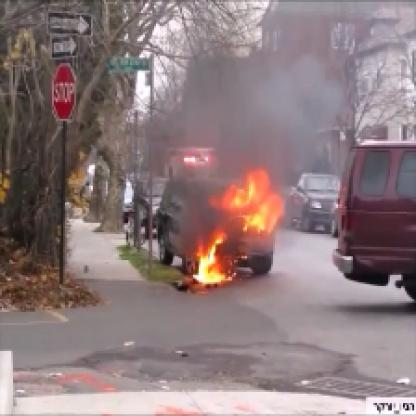Fire: (171, 167, 282, 292)
